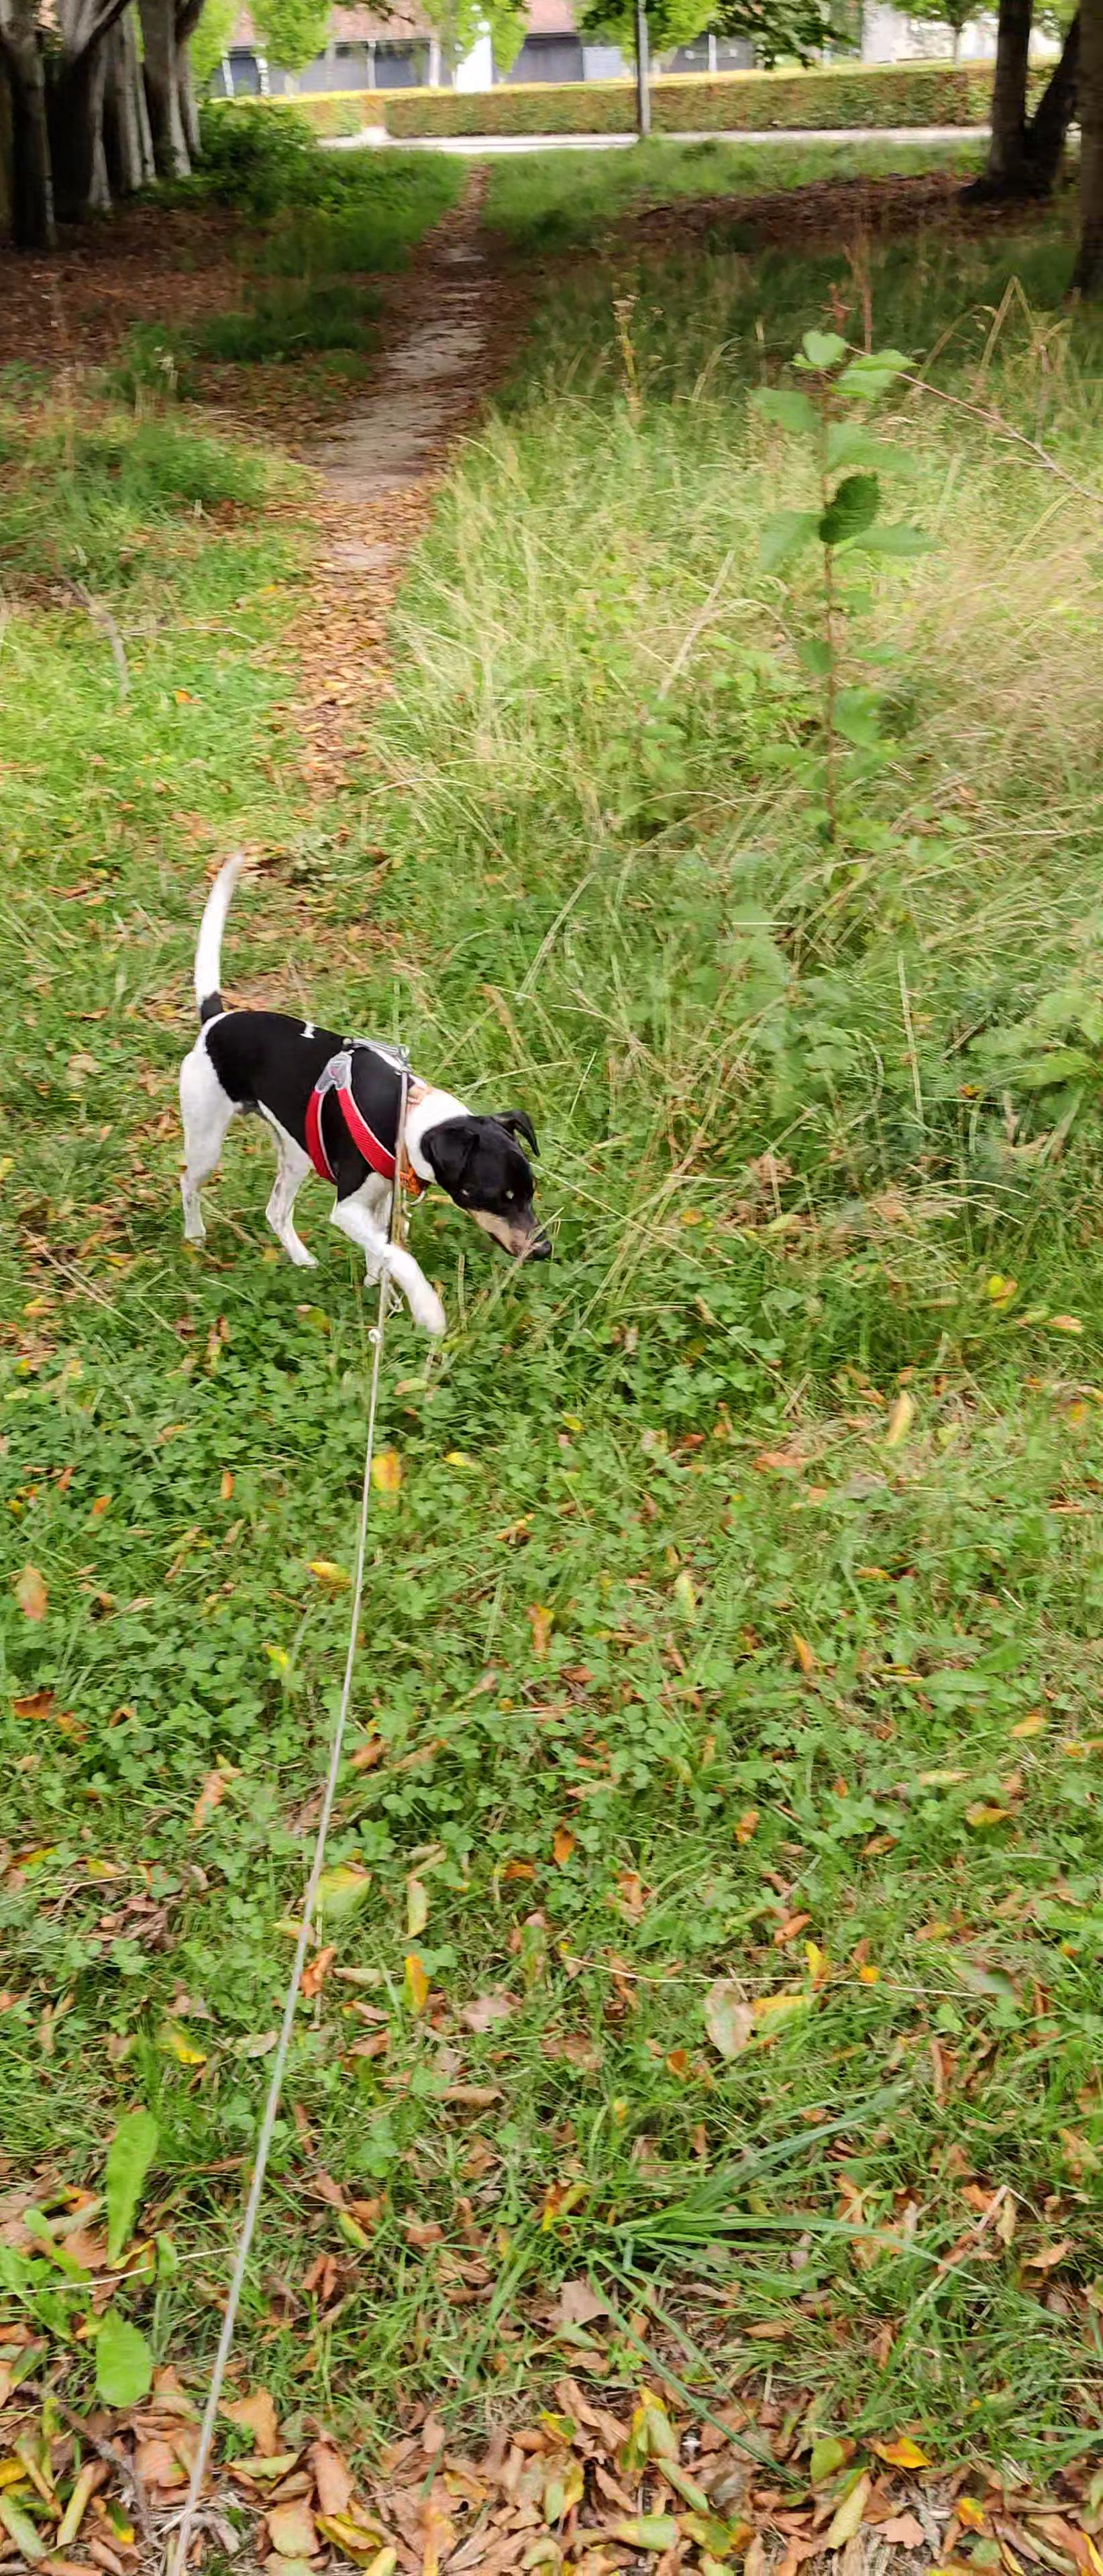Dog: (168, 844, 561, 1342)
